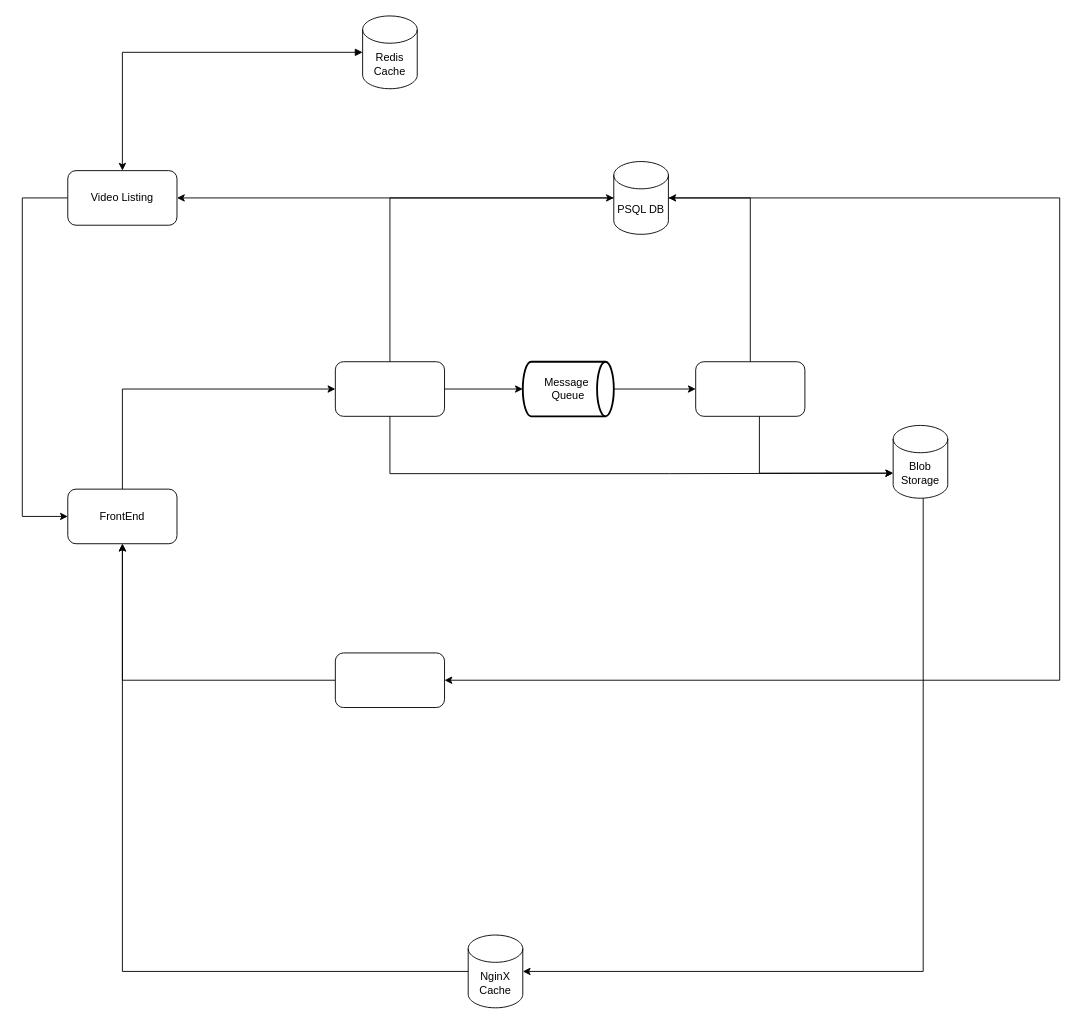
The diagram is 1083 pixels wide and 1024 high, and some of its shapes have lost their labels. Each missing label, with the centre of its shape:
"Video Processing" belongs at pixel 750 388.
"Video Streaming" belongs at pixel 389 680.
"Video Upload" belongs at pixel 389 388.
